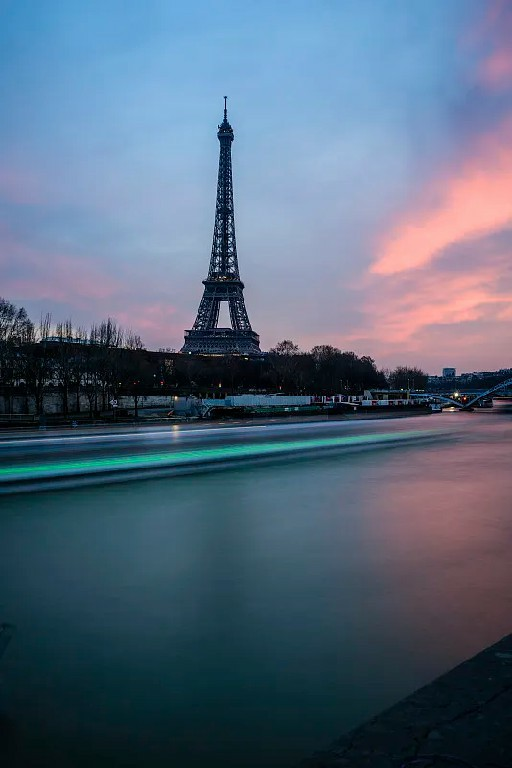Eiffel: (176, 96, 262, 357)
